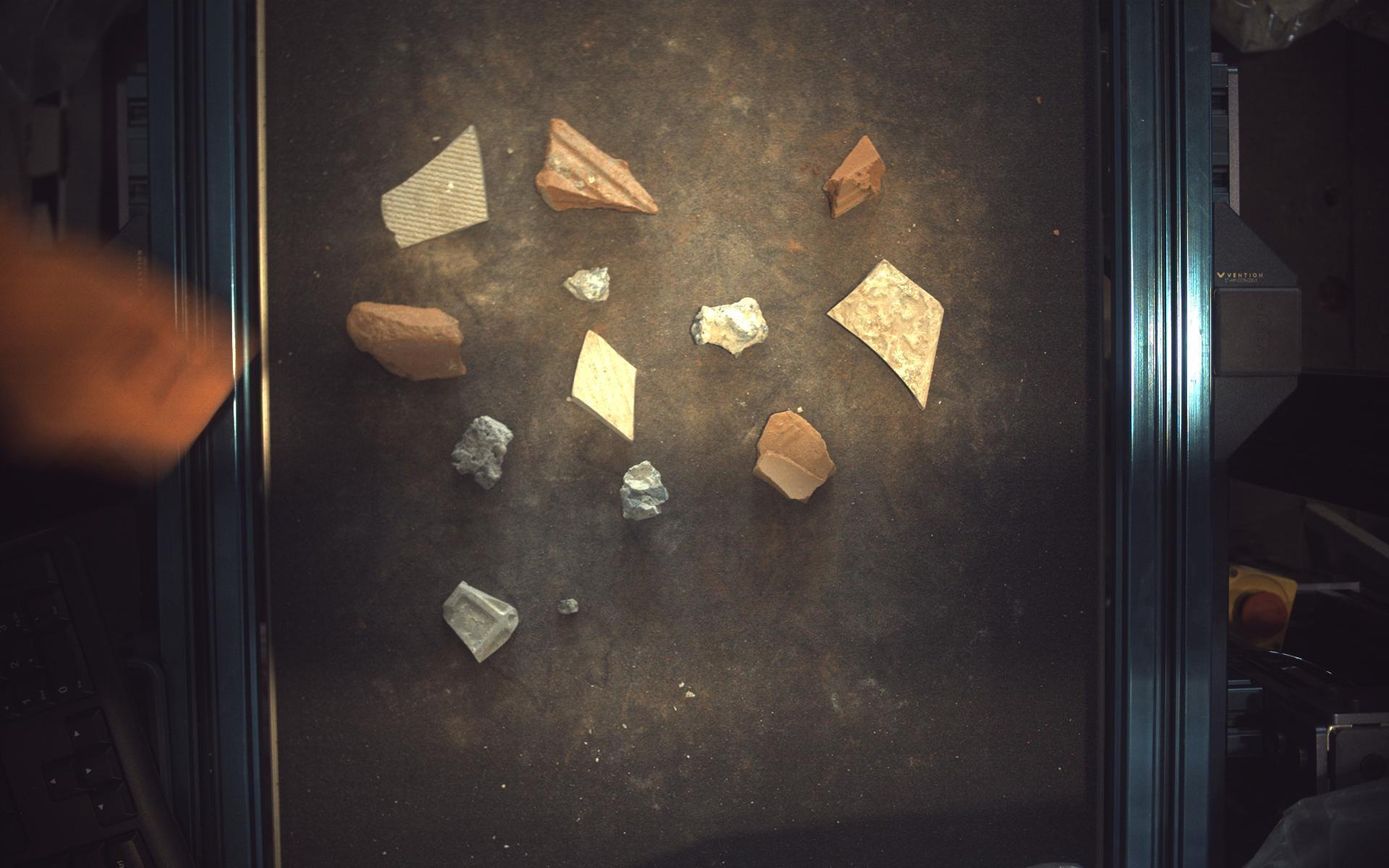brick: (536, 117, 659, 213), (346, 301, 466, 380), (755, 410, 837, 503), (824, 134, 887, 217)
concrete: (692, 297, 770, 356), (452, 416, 514, 490), (621, 461, 669, 521), (564, 266, 611, 301)
tile: (830, 260, 946, 408), (381, 124, 488, 247), (572, 330, 637, 441), (443, 582, 519, 663)
